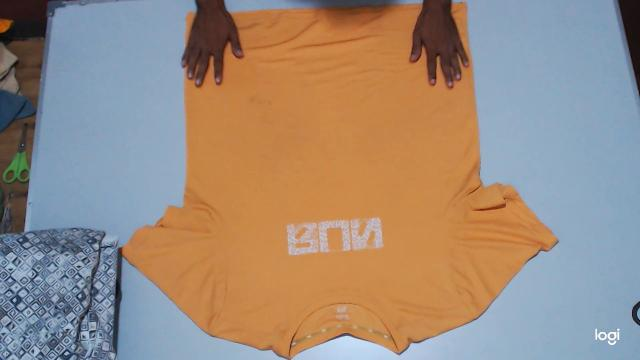new-garment: (122, 4, 557, 358)
